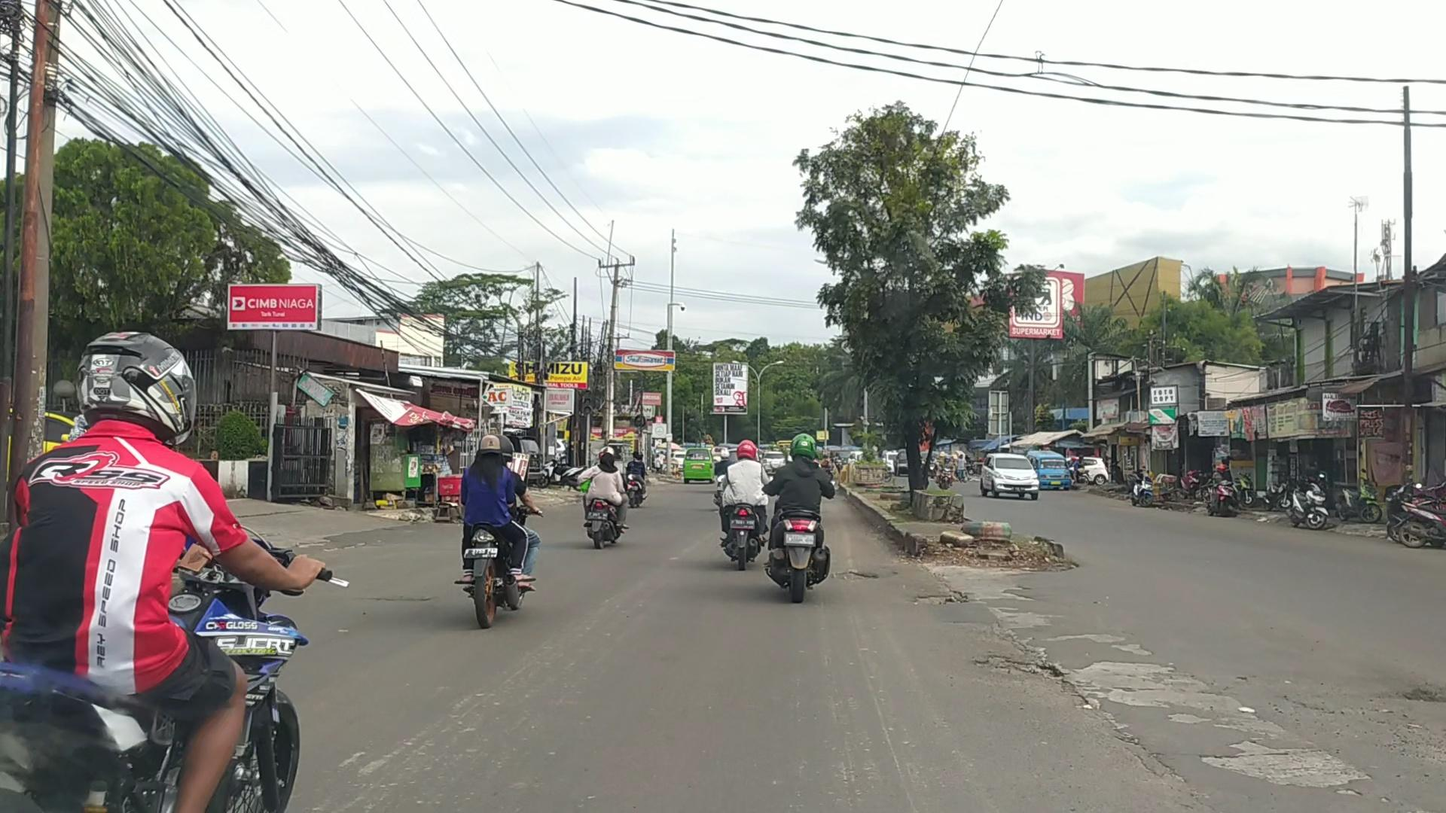pothole: (968, 651, 1065, 678), (911, 590, 969, 608), (833, 570, 877, 580)
